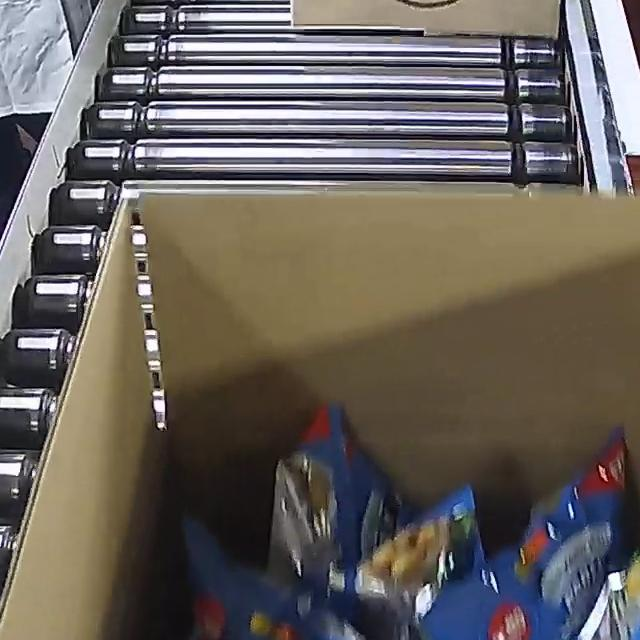paprika: (93, 401, 640, 640)
